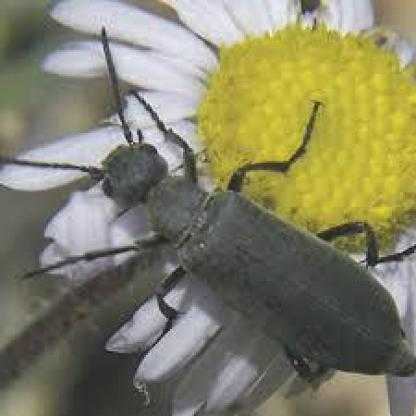blister beetle: (2, 28, 414, 381)
